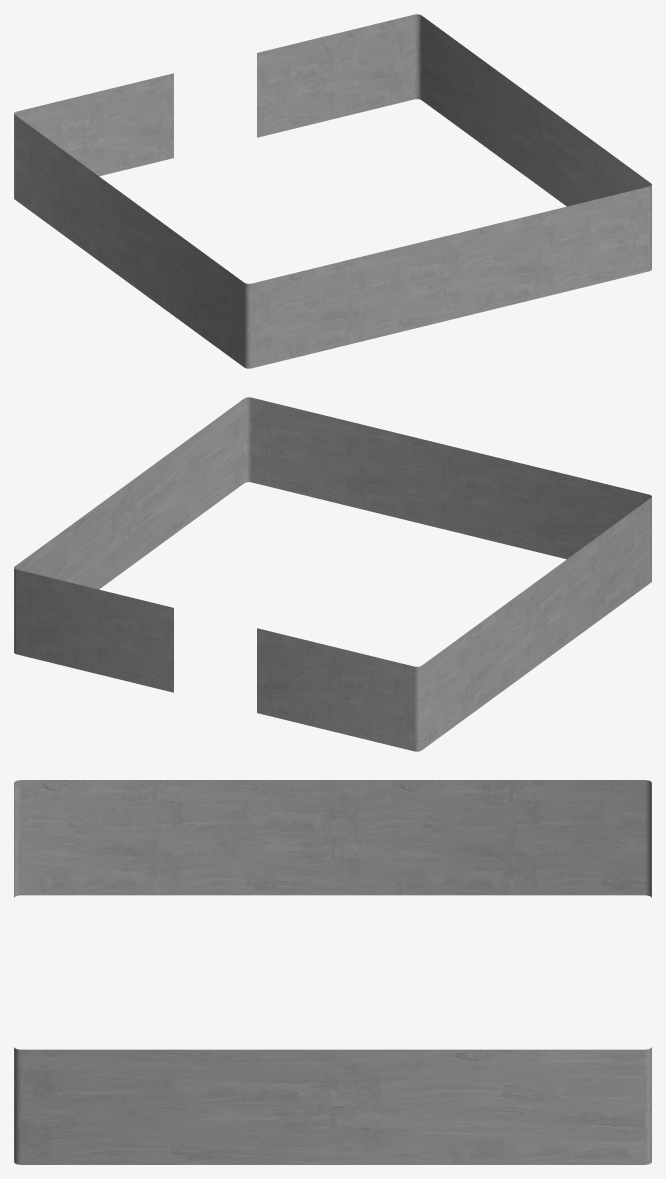
Rendered from RoomA-Walls.glb.
The picture shows the model from 3 angles, top to bottom: view 1: azimuth 30°, elevation 25°; view 2: azimuth 150°, elevation 25°; view 3: azimuth 270°, elevation 25°; orthographic projection. The views are drawn at different scales.
Visible parts, largest first — view 1: Cube; view 2: Cube; view 3: Cube.
Part boxes in pixels (x1,y1,x2,y2): Cube: (14,14,651,368); Cube: (14,397,651,751); Cube: (14,780,651,1164).
Size of the model in its own units: 15.05 by 3 by 15.05.
1 material, 1 textured.
